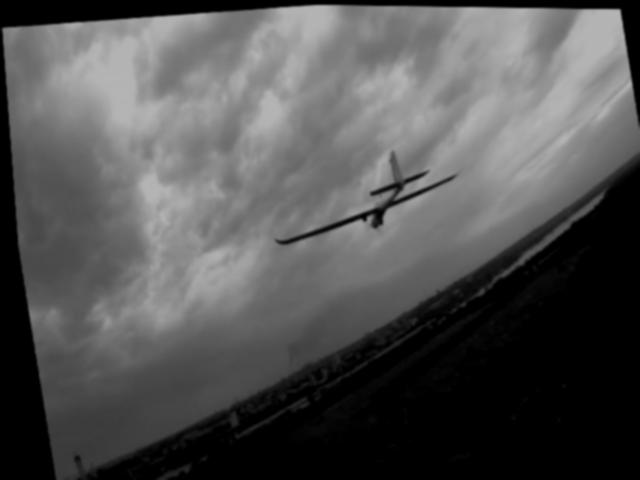hedef: (255, 142, 494, 268)
